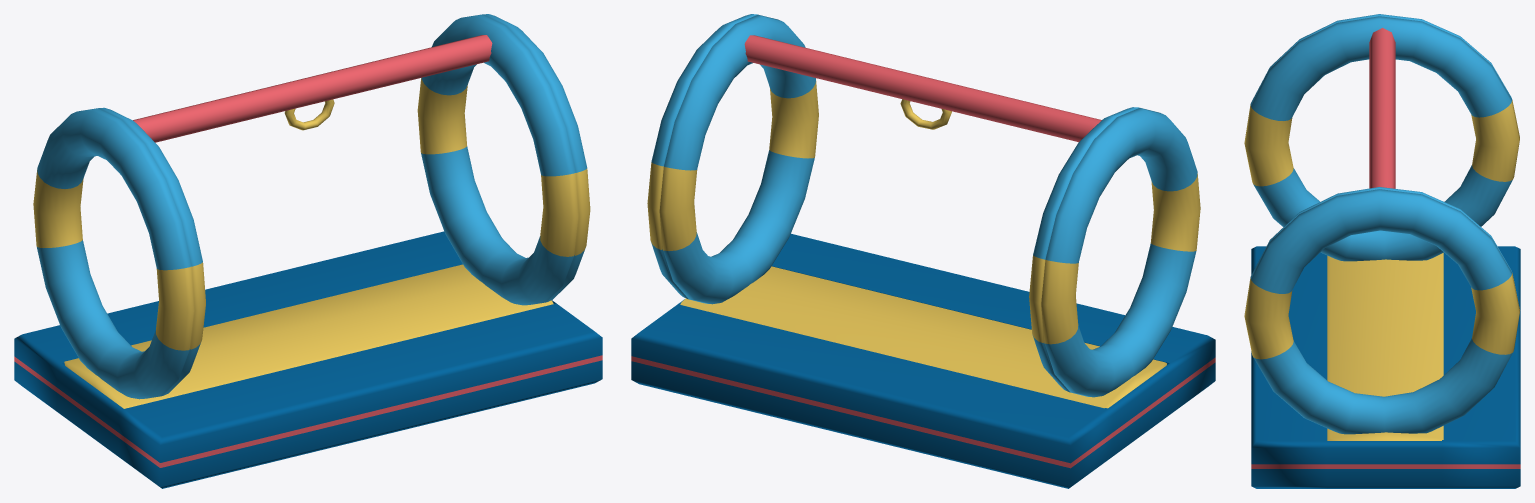
File: plataformaGanchoHorizontal.fbx
3 views of the same model, side by side, from view 1: azimuth 30°, elevation 25°; view 2: azimuth 150°, elevation 25°; view 3: azimuth 270°, elevation 25° (orthographic). The views are drawn at different scales.
Visible parts, largest first — view 1: base, lateral1, lateral2, conector; view 2: base, lateral1, lateral2, conector; view 3: base, lateral2, lateral1, conector.
Part boxes in pixels (x1,y1,x2,y2): base: [14, 231, 602, 488]; lateral1: [33, 107, 205, 399]; lateral2: [417, 14, 590, 305]; conector: [133, 35, 492, 142]; base: [631, 233, 1215, 488]; lateral1: [1029, 107, 1200, 397]; lateral2: [647, 14, 818, 304]; conector: [744, 35, 1101, 142]; base: [1251, 246, 1520, 488]; lateral2: [1244, 187, 1519, 434]; lateral1: [1244, 14, 1519, 261]; conector: [1369, 28, 1395, 188].
Bounding box in the file's own units: 2050 × 1392 × 1201.
